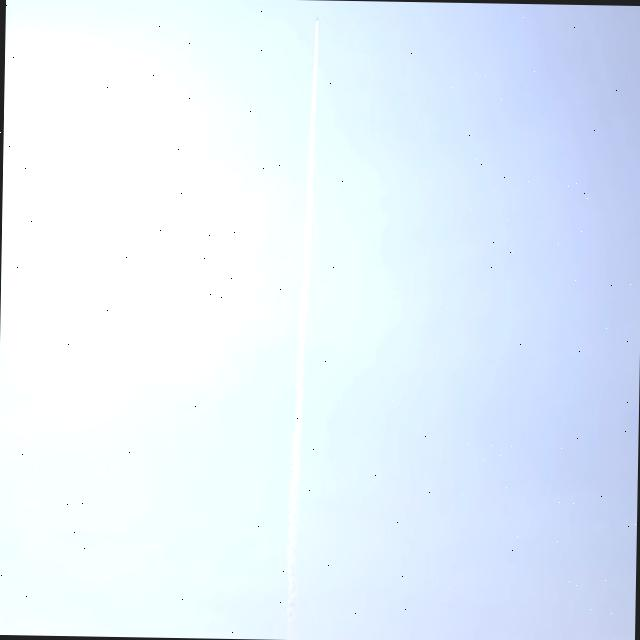smoke_trail_with_rocket: (284, 22, 317, 640)
